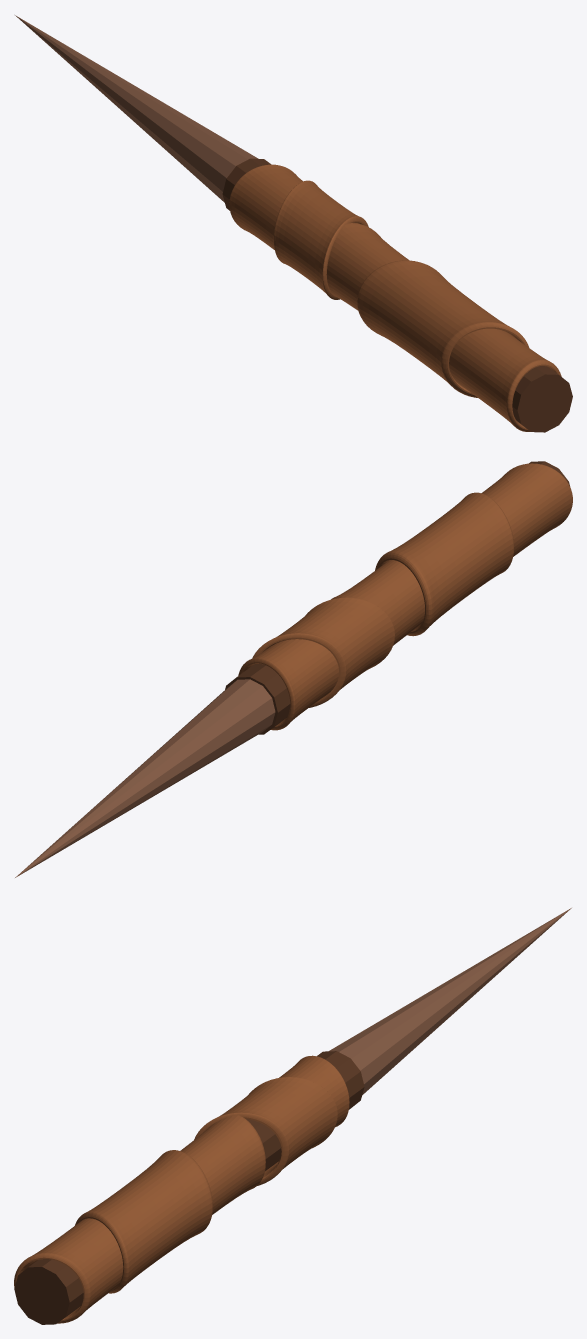
The model's file is Wand 13.glb.
3 views of the same model, one above another, from view 1: azimuth 30°, elevation 25°; view 2: azimuth 150°, elevation 25°; view 3: azimuth 330°, elevation 25° (orthographic).
Visible parts, largest first — view 1: GeneratedWand; view 2: GeneratedWand; view 3: GeneratedWand.
Boxes of the visible parts, box(x1,y1,x2,y2) form: GeneratedWand: box(15, 15, 572, 432); GeneratedWand: box(15, 461, 572, 877); GeneratedWand: box(14, 908, 571, 1324).
Size of the model in its own units: 0.0408 by 0.0408 by 0.5015.
